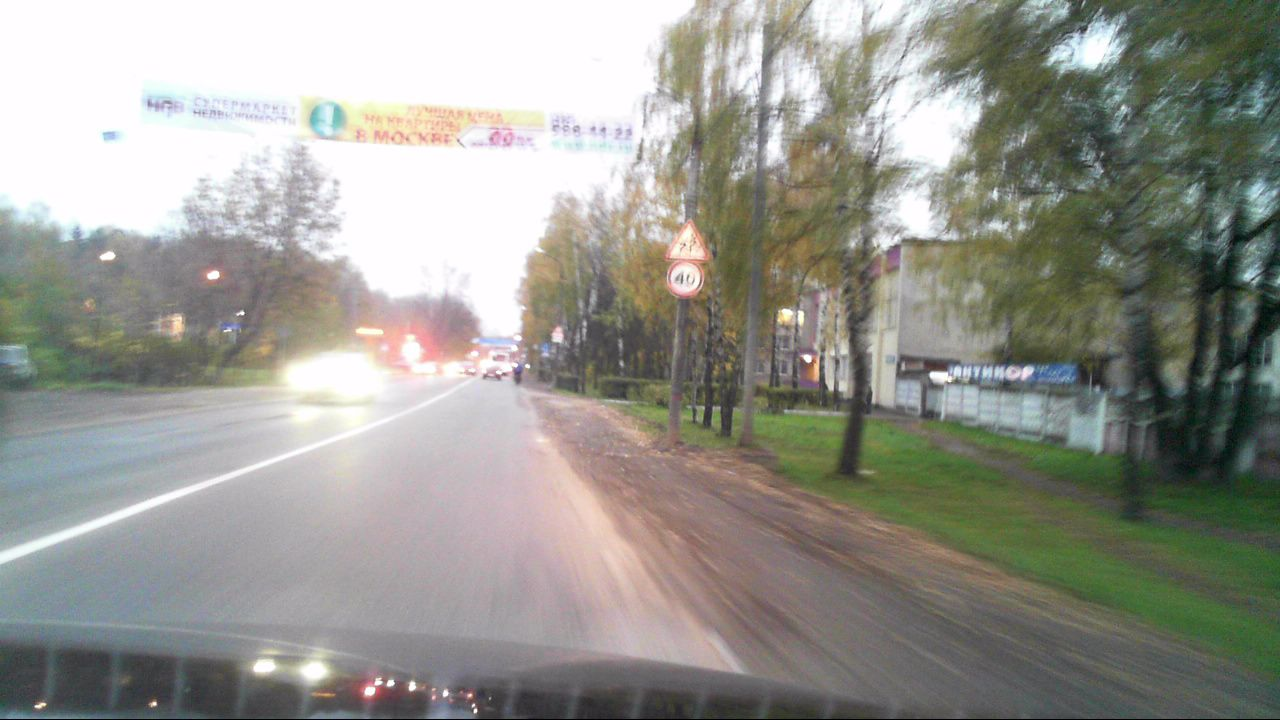speed_warning_40: (667, 262, 704, 298)
